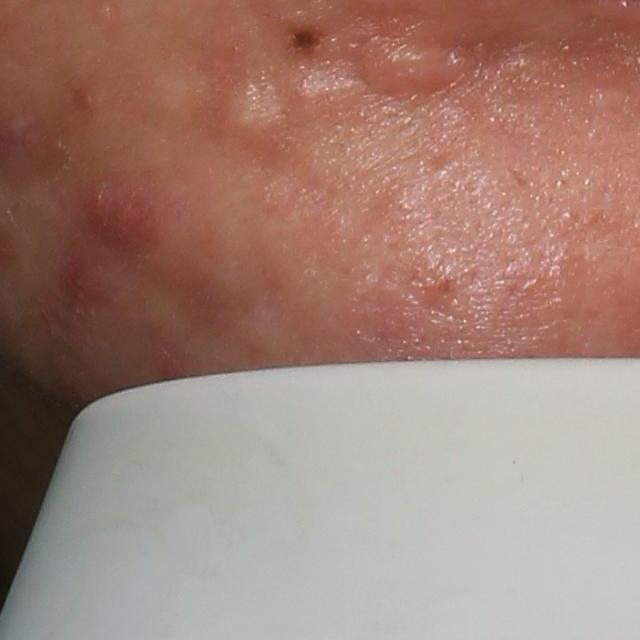hypertrophic_scar: (352, 35, 467, 97), (218, 72, 287, 153), (136, 67, 215, 129), (299, 70, 380, 109)
nevus: (280, 7, 331, 64)
papule: (74, 180, 157, 258), (56, 257, 105, 308)
